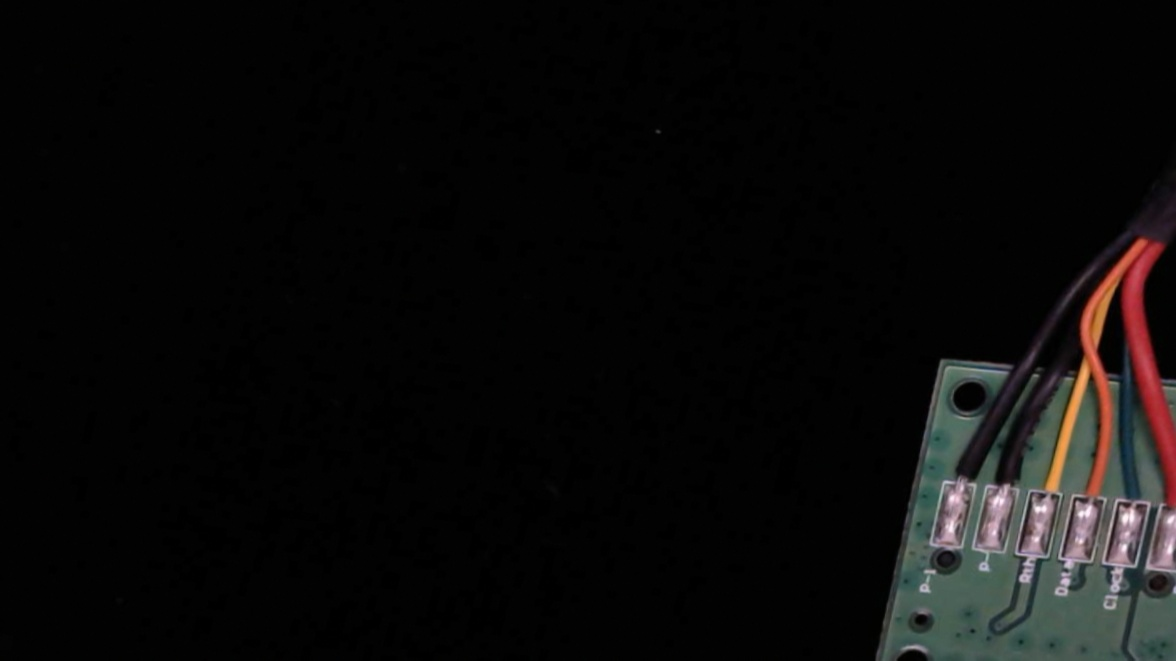Black: (981, 431, 1036, 508)
Black1: (936, 432, 988, 504)
Green: (1110, 449, 1165, 524)
Orange: (1066, 441, 1119, 518)
Red: (1155, 448, 1176, 522)
Yellow: (1022, 437, 1078, 516)
